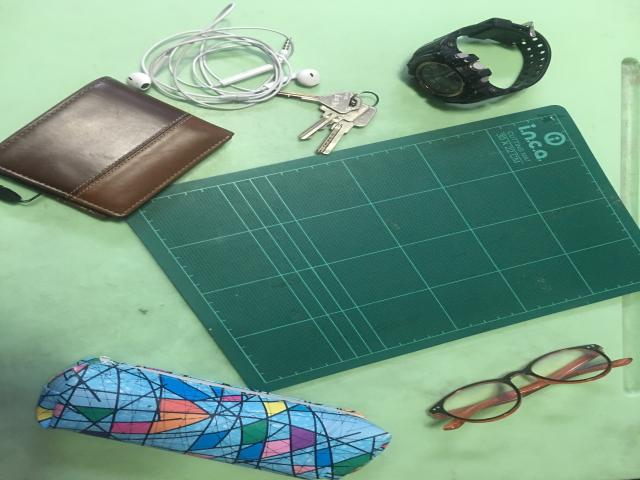Glasses: (428, 345, 632, 430)
Keys: (277, 91, 377, 155)
Wallet: (0, 77, 233, 218)
Watch: (407, 18, 552, 104)
wire: (127, 4, 320, 110)
